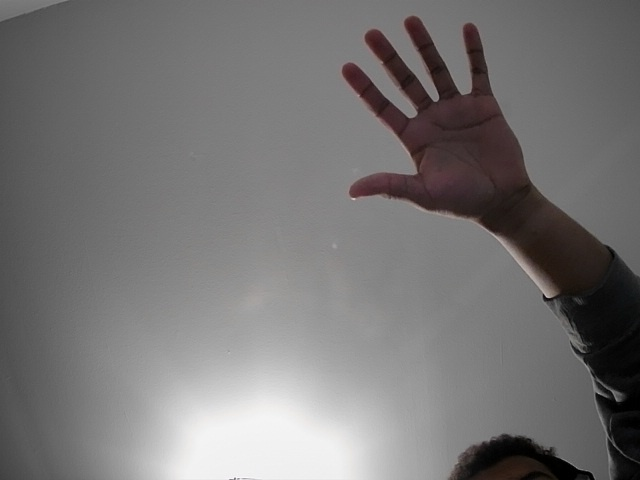Hello: (317, 7, 549, 233)
